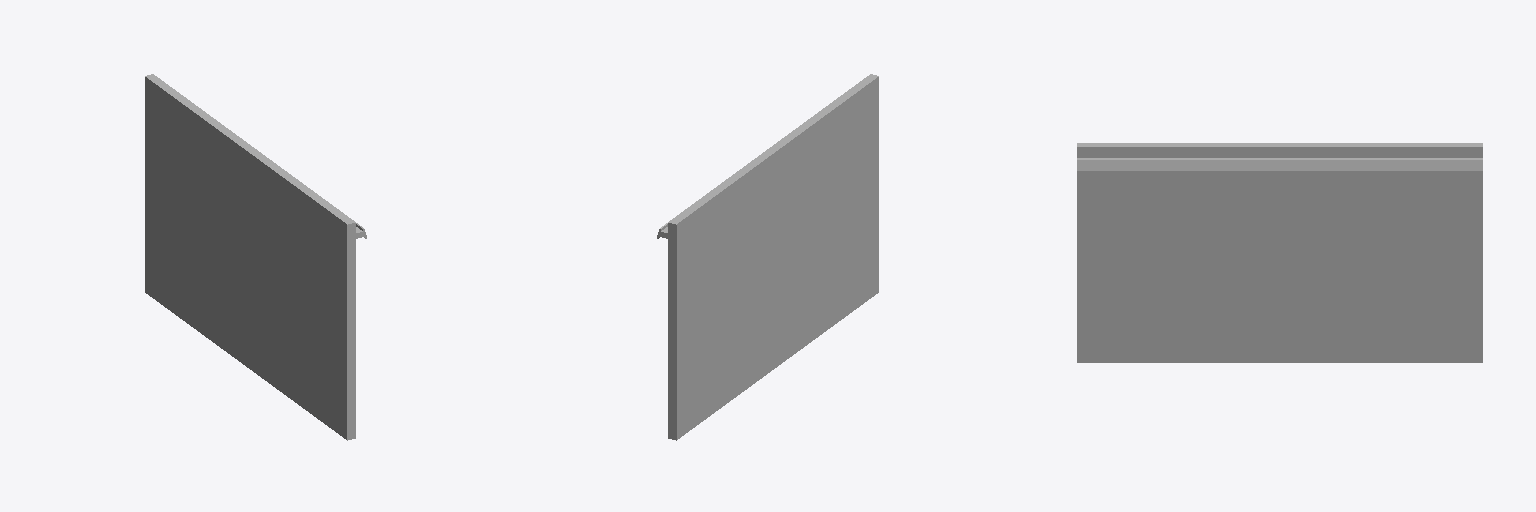
The model's file is dof_rootd_Ba001_r.obj.
3 views of the same model, side by side, from view 1: azimuth 30°, elevation 25°; view 2: azimuth 150°, elevation 25°; view 3: azimuth 270°, elevation 25° (orthographic).
Visible parts, largest first — view 1: rootd_Ba001_object__49_o3_o313_p82_Geometry_0; view 2: rootd_Ba001_object__49_o3_o313_p82_Geometry_0; view 3: rootd_Ba001_object__49_o3_o313_p82_Geometry_0, rootd_Ba001_object__50_o4_o416_p103_Geometry_0.
Part boxes in pixels (x1,y1,x2,y2): rootd_Ba001_object__49_o3_o313_p82_Geometry_0: (145, 74, 355, 440); rootd_Ba001_object__49_o3_o313_p82_Geometry_0: (668, 74, 878, 440); rootd_Ba001_object__49_o3_o313_p82_Geometry_0: (1077, 143, 1482, 362); rootd_Ba001_object__50_o4_o416_p103_Geometry_0: (1077, 158, 1482, 352).
Bounding box in the file's own units: 0.0472 × 0.4913 × 0.8353.